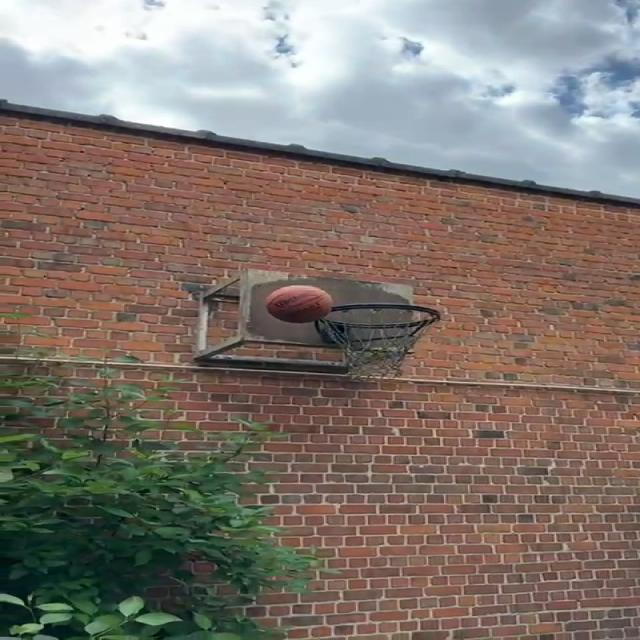Basketball: (265, 286, 331, 325)
